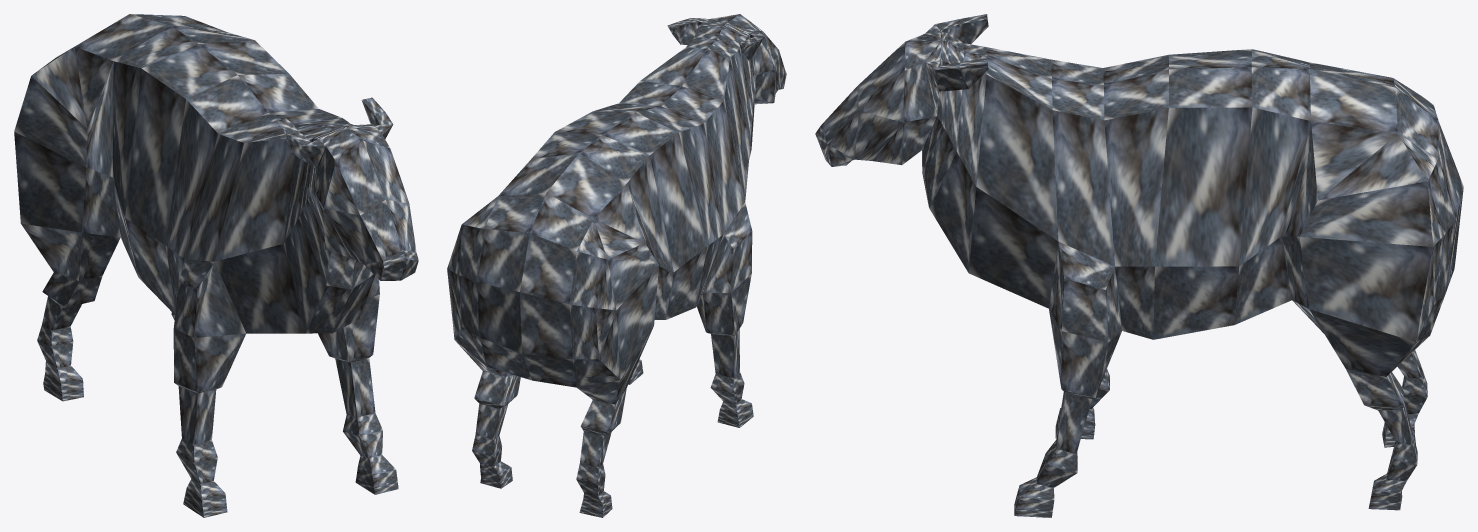
Rendered from SheepIdle_000043.obj.
The picture shows the model from 3 angles, left to right: view 1: azimuth 30°, elevation 25°; view 2: azimuth 150°, elevation 25°; view 3: azimuth 270°, elevation 25°; orthographic projection. The views are drawn at different scales.
Parts seen in each view (by area): view 1: Sheep_Cylinder; view 2: Sheep_Cylinder; view 3: Sheep_Cylinder.
Part boxes in pixels (box(x1,y1,x2,y2)): Sheep_Cylinder: box(14, 14, 418, 517); Sheep_Cylinder: box(447, 14, 786, 517); Sheep_Cylinder: box(815, 14, 1463, 517).
Size of the model in its own units: 2.22 by 4.39 by 5.92.
